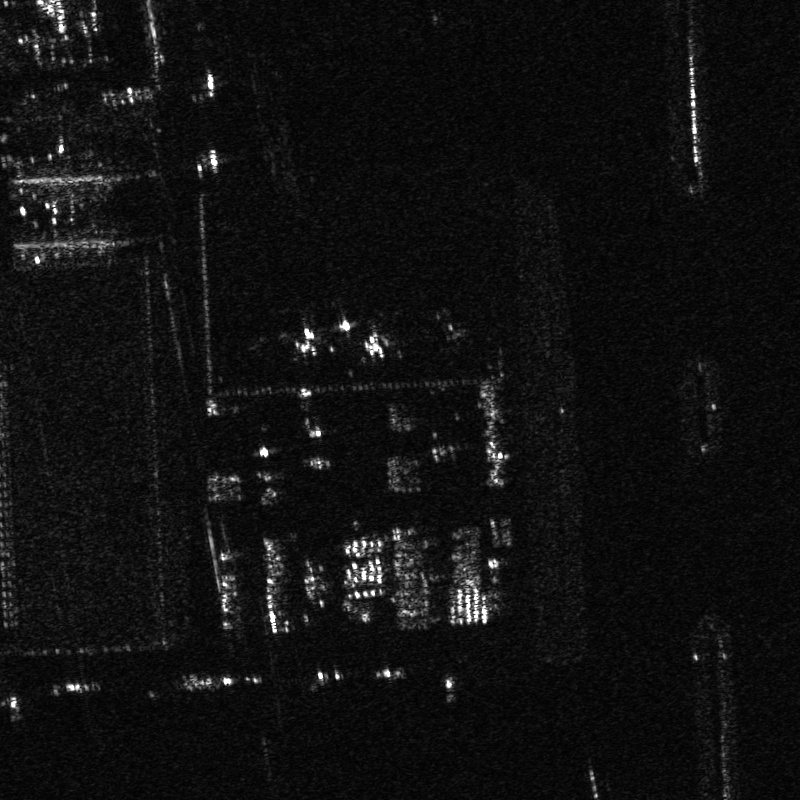ARJ21: (274, 310, 333, 362)
other: (352, 315, 406, 366)
